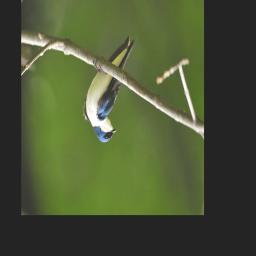Swallow: (82, 35, 136, 144)
